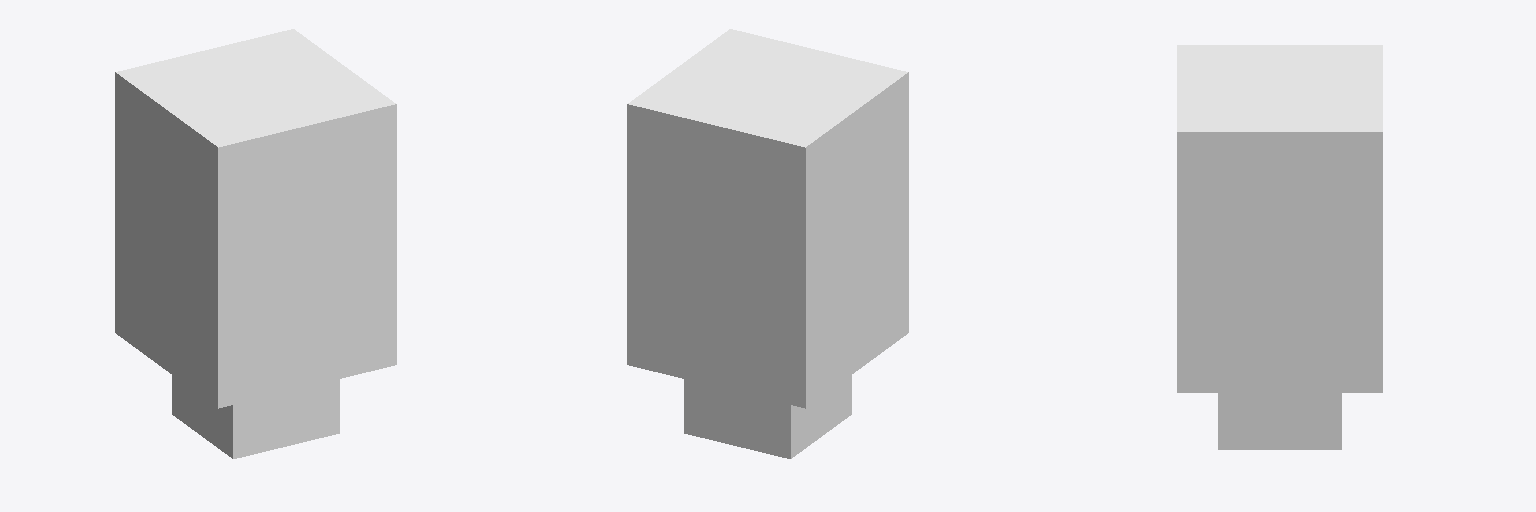
File: longTree.obj
3 renders of one model, left to right at view 1: azimuth 30°, elevation 25°; view 2: azimuth 150°, elevation 25°; view 3: azimuth 270°, elevation 25°, orthographic.
Visible parts, largest first — view 1: object 1; view 2: object 1; view 3: object 1.
Boxes of the visible parts, <box> form: object 1: <box>115,29,396,458</box>; object 1: <box>627,29,908,458</box>; object 1: <box>1177,45,1382,449</box>.
Size of the model in its own units: 0.5 by 0.9 by 0.5.